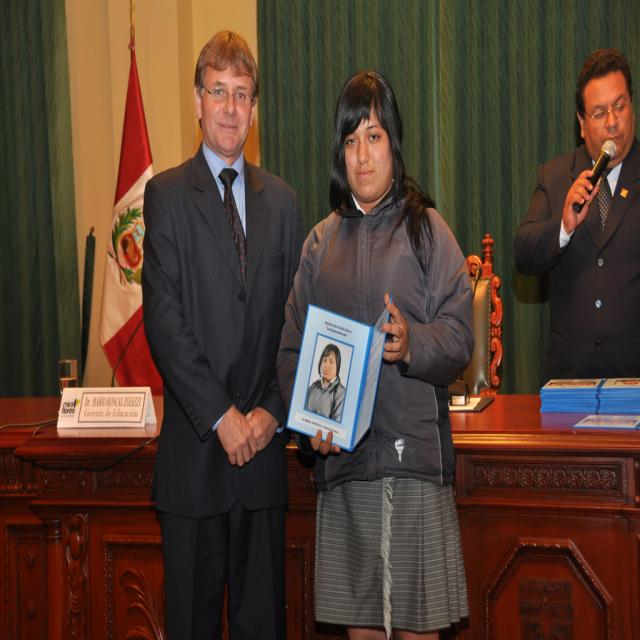desk: (3, 394, 638, 636)
person: (278, 71, 476, 640), (140, 30, 304, 634), (512, 47, 640, 381)
